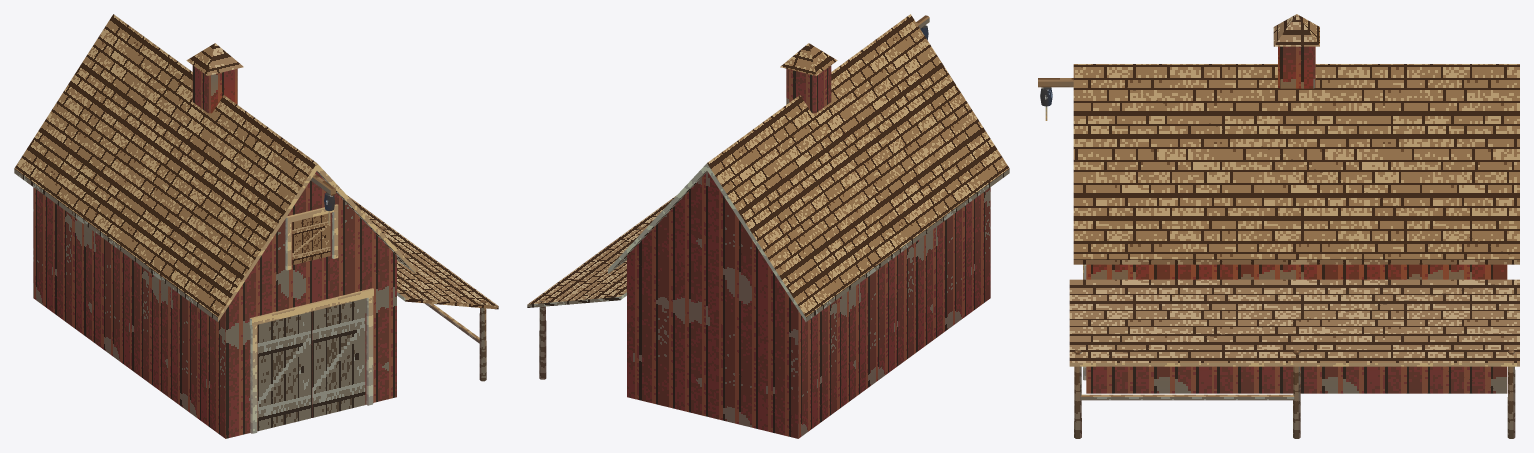
Rendered from wtown.stable.glb.
3 views of the same model, side by side, from view 1: azimuth 30°, elevation 25°; view 2: azimuth 150°, elevation 25°; view 3: azimuth 270°, elevation 25° (orthographic). The views are drawn at different scales.
Parts seen in each view (by area): view 1: kit_roof, kit_body, kit_card_panes, kit_lean_to, kit_trim, kit_cupola, kit_cupola_cap; view 2: kit_body, kit_roof, kit_lean_to, kit_cupola, kit_cupola_cap; view 3: kit_roof, kit_lean_to, kit_body, kit_cupola, kit_lean_rail, kit_cupola_cap, kit_hoist.
Boxes of the visible parts, bbox=[...] form: kit_roof: bbox=[14, 14, 415, 321]; kit_body: bbox=[33, 171, 396, 438]; kit_card_panes: bbox=[257, 213, 365, 431]; kit_lean_to: bbox=[347, 195, 498, 381]; kit_trim: bbox=[249, 204, 373, 433]; kit_cupola: bbox=[192, 65, 237, 113]; kit_cupola_cap: bbox=[186, 43, 243, 75]; kit_body: bbox=[627, 171, 990, 438]; kit_roof: bbox=[608, 14, 1009, 321]; kit_lean_to: bbox=[527, 195, 676, 379]; kit_cupola: bbox=[786, 65, 831, 113]; kit_cupola_cap: bbox=[780, 43, 837, 75]; kit_roof: bbox=[1073, 64, 1519, 264]; kit_lean_to: bbox=[1069, 279, 1519, 438]; kit_body: bbox=[1086, 264, 1507, 393]; kit_cupola: bbox=[1278, 46, 1315, 88]; kit_lean_rail: bbox=[1080, 394, 1294, 400]; kit_cupola_cap: bbox=[1273, 14, 1319, 46]; kit_hoist: bbox=[1038, 78, 1073, 106].
Size of the model in its own units: 8.37 by 8.75 by 11.45.
Materials: 9 (9 with a texture image).
